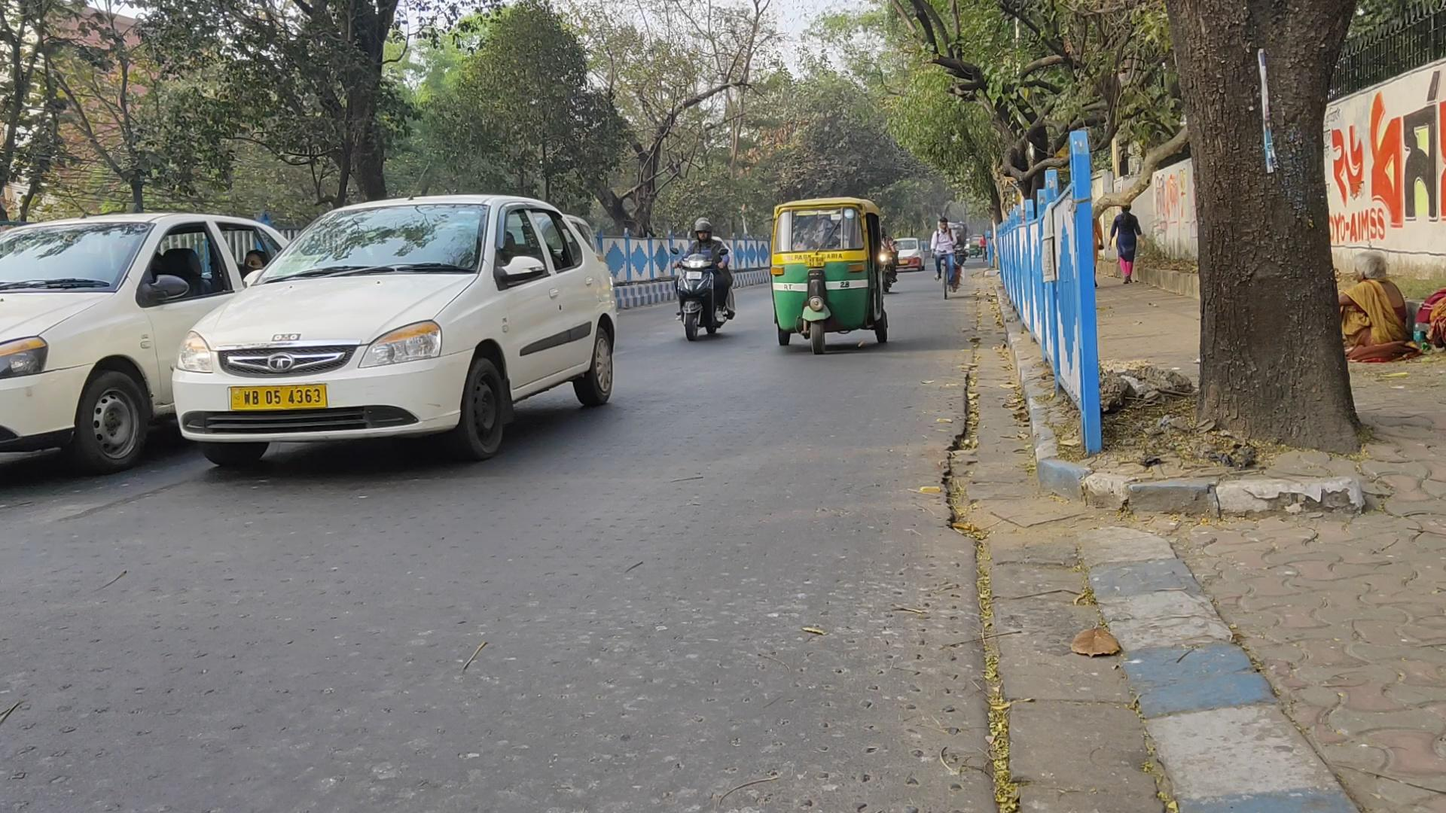Auto: (767, 196, 889, 355)
bike: (669, 216, 735, 341), (930, 217, 959, 300)
car: (172, 194, 618, 469), (2, 212, 291, 474), (891, 236, 926, 273)
